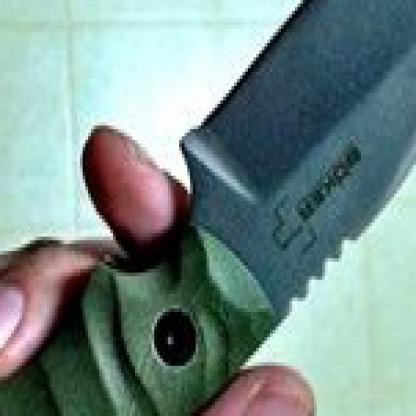knife: (52, 0, 414, 413)
